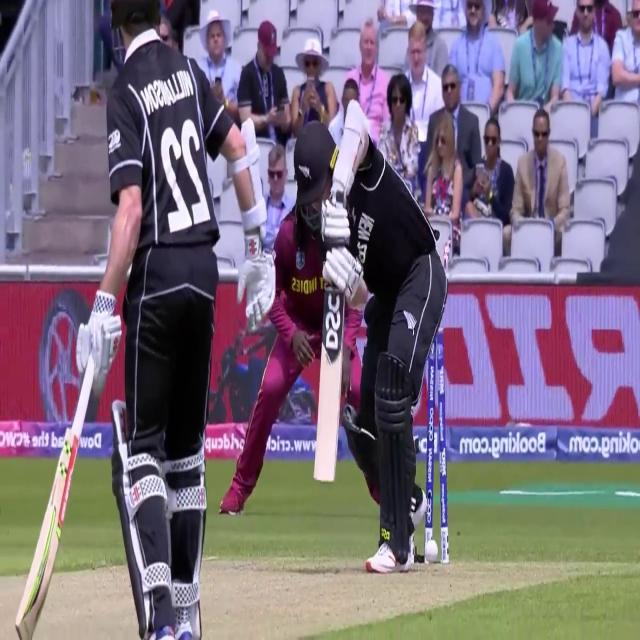ball: (421, 532, 441, 574)
